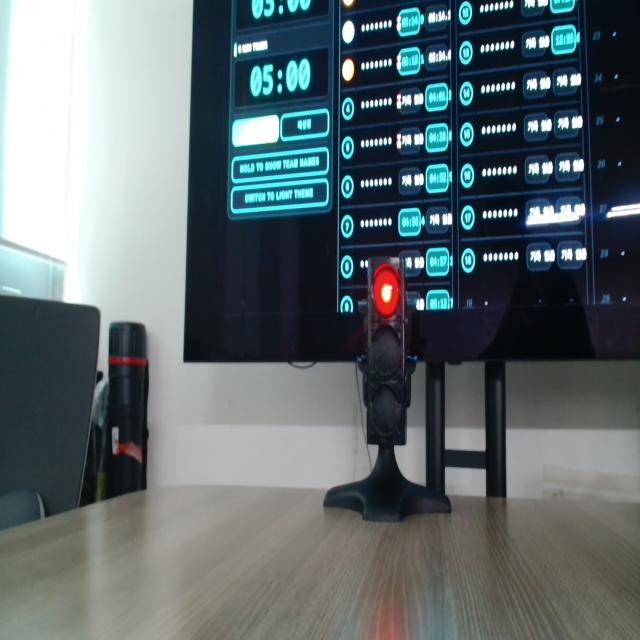red_light: (373, 265, 400, 317)
